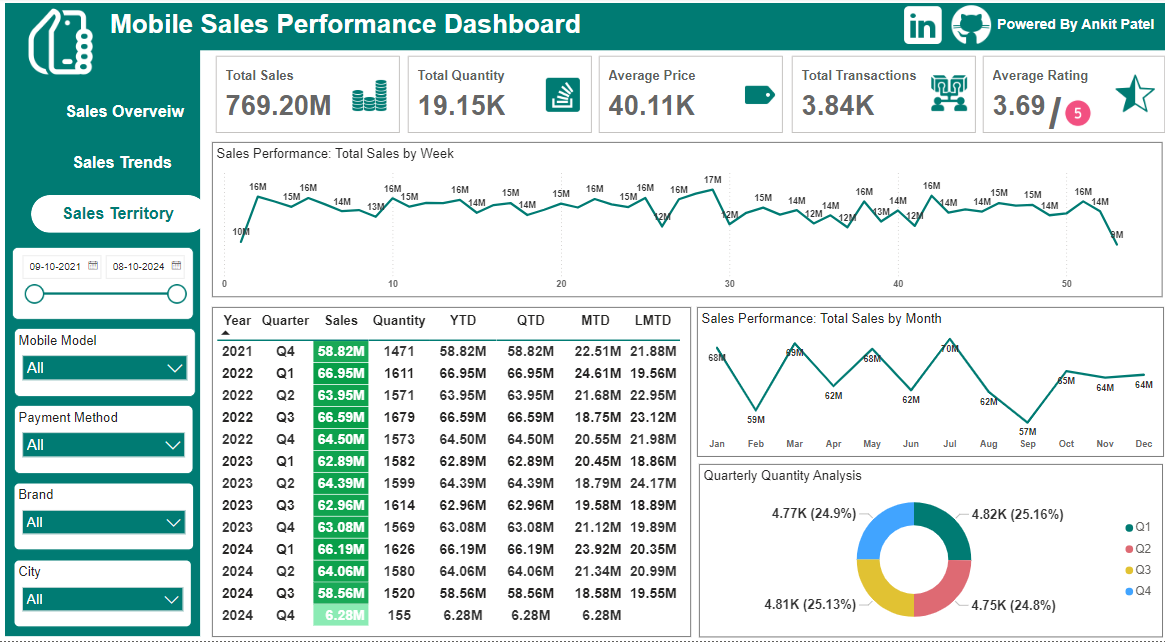

What the dashboard file says about the page in this screenshot:
{"tool":"powerbi","page":{"name":"Sales Territory","canvas":[1550,850],"ordinal":1},"visuals":[{"type":"shape","box":[8.5,9.9,256.9,834.1],"z":0},{"type":"shape","box":[994.3,516.2,38,179.5],"z":1000},{"type":"shape","box":[7.8,6.2,1534.4,62.5],"z":2000},{"type":"actionButton","title":"Mobile Sales Performance Dashboard","box":[146.8,15.5,633.7,42.3],"z":3000},{"type":"image","box":[0,0,162.3,117.1],"z":4000},{"type":"actionButton","title":"Powered By Ankit Patel","box":[1318.8,23.4,223.4,28.1],"z":5000},{"type":"image","box":[1251.6,1.6,67.2,68.8],"z":6000},{"type":"image","box":[1181.2,1.6,78.1,68.8],"z":7000},{"type":"slicer","title":"Mobile Model","fields":{"Values":["Mobile_sales_data.Mobile Model"]},"box":[19.5,436,239.6,90.5],"z":8000},{"type":"slicer","title":"Payment Method","fields":{"Values":["Mobile_sales_data.Payment Method"]},"box":[19.5,537.7,236.8,90.5],"z":9000},{"type":"slicer","title":"Brand","fields":{"Values":["Mobile_sales_data.Brand"]},"box":[18.1,639.4,239.6,90.5],"z":10000},{"type":"slicer","fields":{"Values":["Mobile_sales_data.Date"]},"box":[16.9,328.8,239.9,96],"z":11000},{"type":"slicer","title":"City","fields":{"Values":["Mobile_sales_data.City"]},"box":[18.1,741.1,236.8,90.5],"z":12000},{"type":"cardVisual","fields":{"Data":["Measures Table.Total Sales"]},"box":[281.3,71.6,253.2,112.5],"z":13000},{"type":"cardVisual","fields":{"Data":["Measures Table.Total Quantity"]},"box":[534.7,71.6,253,112.2],"z":14000},{"type":"cardVisual","fields":{"Data":["Measures Table.Transactions"]},"box":[1041.9,71.6,253,112.2],"z":15000},{"type":"cardVisual","fields":{"Data":["Measures Table.Avg Price"]},"box":[787.7,71.6,253,112.2],"z":16000},{"type":"image","box":[444,100.3,90.7,54.9],"z":17000},{"type":"image","box":[709,100.3,71.6,54.9],"z":18000},{"type":"image","box":[978.7,100.3,52.5,54.9],"z":19000},{"type":"image","box":[1219.8,94.3,72.8,64.5],"z":20000},{"type":"cardVisual","fields":{"Data":["Measures Table.Avg Rating"]},"box":[1295.3,71.9,251.6,112.5],"z":21000},{"type":"image","box":[1465.4,95.1,71.4,62.1],"z":22000},{"type":"image","box":[1396.7,128.2,58.1,47.6],"z":23000},{"type":"actionButton","title":"/","box":[1368.8,117.2,53.1,57.8],"z":24000},{"type":"barChart","title":"Sales Analysis: Total Sales by Day","fields":{"Category":["Custom_Calendar.Day"],"Y":["Measures Table.Total Sales"]},"box":[282.8,200.9,352.8,642.2],"z":25000},{"type":"barChart","title":"Top Mobile Models by Total Sales","fields":{"Category":["Mobile_sales_data.Mobile Model"],"Y":["Measures Table.Total Sales"]},"box":[647.5,200.9,445.3,313.2],"z":26000},{"type":"barChart","title":"Bottom Mobile Models by Total Sales","fields":{"Y":["Measures Table.Total Sales"],"Category":["Mobile_sales_data.Mobile Model"]},"box":[1108.7,200.9,433.4,313.2],"z":27000},{"type":"barChart","title":"Top Mobile Models by Units Sold","fields":{"Y":["Measures Table.Total Quantity"],"Category":["Mobile_sales_data.Mobile Model"]},"box":[647.5,529.9,445.3,313.2],"z":28000},{"type":"barChart","title":"Bottom Mobile Models by Units Sold","fields":{"Y":["Measures Table.Total Quantity"],"Category":["Mobile_sales_data.Mobile Model"]},"box":[1108.7,529.9,433.4,313.2],"z":29000},{"type":"shape","box":[45.3,193.8,232.8,50],"z":30000},{"type":"actionButton","title":"Sales Overveiw","box":[85.9,138.7,159.9,26.4],"z":31000},{"type":"actionButton","title":"Sales  Trends","box":[50.2,206.1,224.6,25.1],"z":32000},{"type":"actionButton","title":"Sales Territory","box":[50.2,273.5,214.1,25.1],"z":33000}]}

Visuals, with their boxes in screenshot pixels (x1, y1, x2, y2), scaled from the page's 1550x850 canvas onto the 1165x642 screenshot:
shape: box(6, 7, 199, 637)
shape: box(747, 390, 776, 525)
shape: box(6, 5, 1159, 52)
"Mobile Sales Performance Dashboard" actionButton: box(110, 12, 587, 44)
image: box(0, 0, 122, 88)
"Powered By Ankit Patel" actionButton: box(991, 18, 1159, 39)
image: box(941, 1, 991, 53)
image: box(888, 1, 947, 53)
"Mobile Model" slicer: box(15, 329, 195, 398)
"Payment Method" slicer: box(15, 406, 193, 474)
"Brand" slicer: box(14, 483, 194, 551)
slicer - Mobile_sales_data.Date: box(13, 248, 193, 321)
"City" slicer: box(14, 560, 192, 628)
cardVisual - Measures Table.Total Sales: box(211, 54, 402, 139)
cardVisual - Measures Table.Total Quantity: box(402, 54, 592, 139)
cardVisual - Measures Table.Transactions: box(783, 54, 973, 139)
cardVisual - Measures Table.Avg Price: box(592, 54, 782, 139)
image: box(334, 76, 402, 117)
image: box(533, 76, 587, 117)
image: box(736, 76, 775, 117)
image: box(917, 71, 972, 120)
cardVisual - Measures Table.Avg Rating: box(974, 54, 1163, 139)
image: box(1101, 72, 1155, 119)
image: box(1050, 97, 1093, 133)
"/" actionButton: box(1029, 89, 1069, 132)
"Sales Analysis: Total Sales by Day" barChart: box(213, 152, 478, 637)
"Top Mobile Models by Total Sales" barChart: box(487, 152, 821, 388)
"Bottom Mobile Models by Total Sales" barChart: box(833, 152, 1159, 388)
"Top Mobile Models by Units Sold" barChart: box(487, 400, 821, 637)
"Bottom Mobile Models by Units Sold" barChart: box(833, 400, 1159, 637)
shape: box(34, 146, 209, 184)
"Sales Overveiw" actionButton: box(65, 105, 185, 125)
"Sales  Trends" actionButton: box(38, 156, 207, 175)
"Sales Territory" actionButton: box(38, 207, 199, 226)
